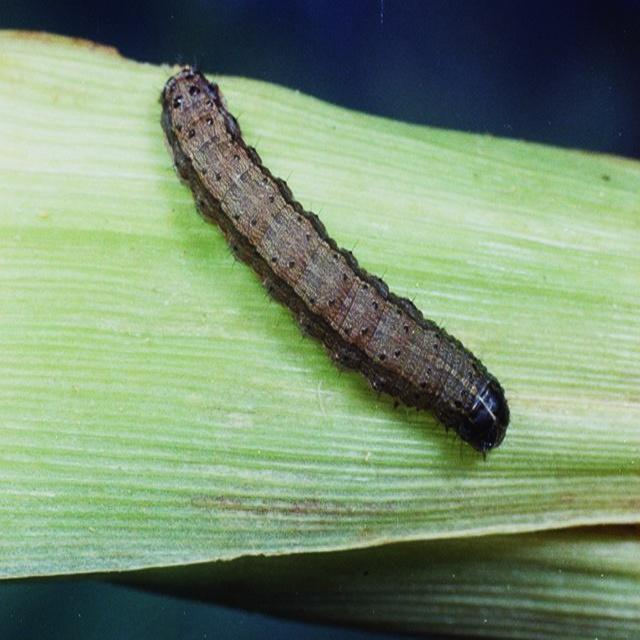gusano_cogollero: (154, 63, 513, 458)
